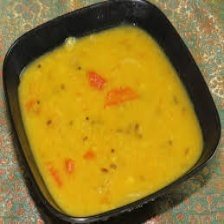dal: (17, 22, 204, 218)
